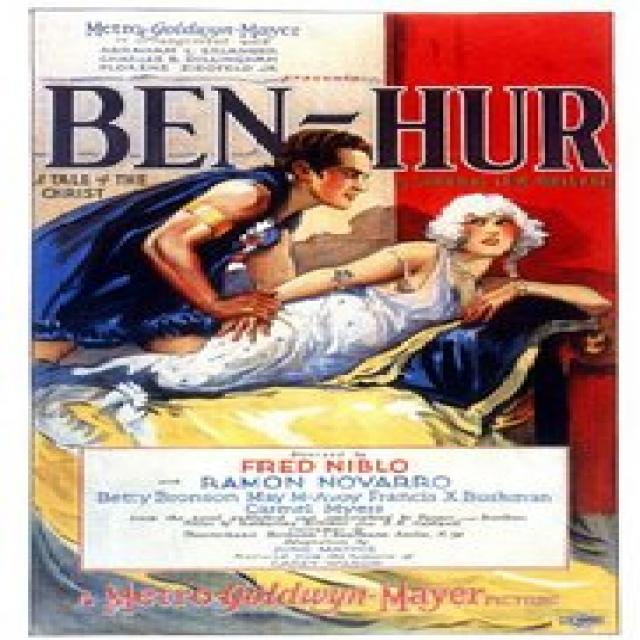movie-judul: (42, 65, 618, 187)
picture: (28, 9, 621, 629)
